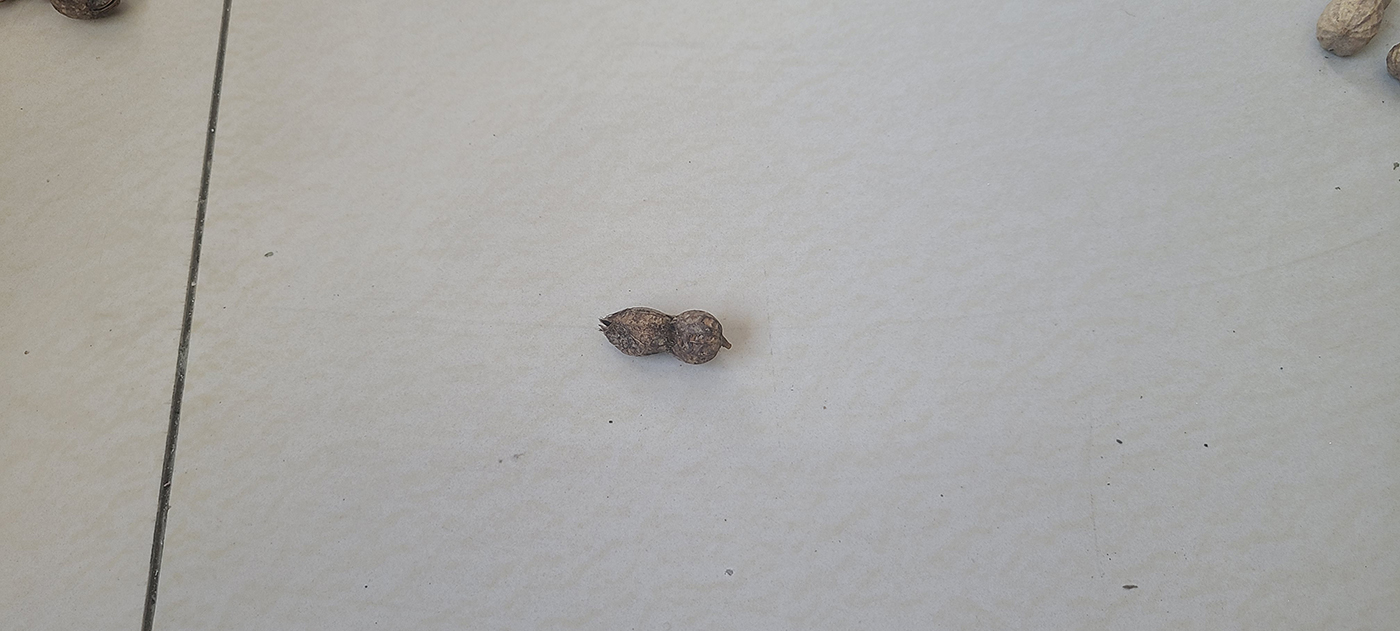h: (1315, 4, 1398, 55)
l: (601, 305, 731, 368)
